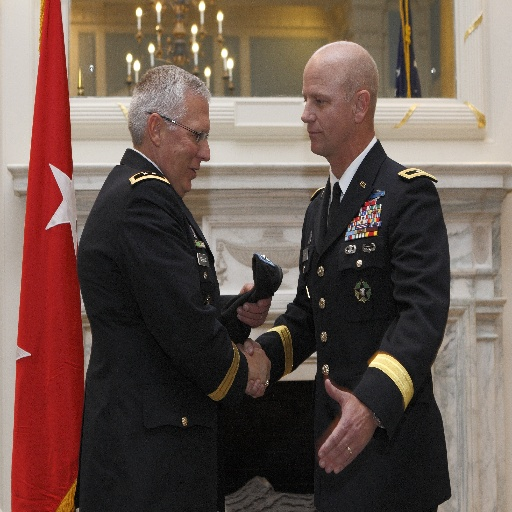hand: (315, 372, 394, 479), (236, 280, 273, 329), (236, 342, 269, 389), (241, 336, 265, 400)
